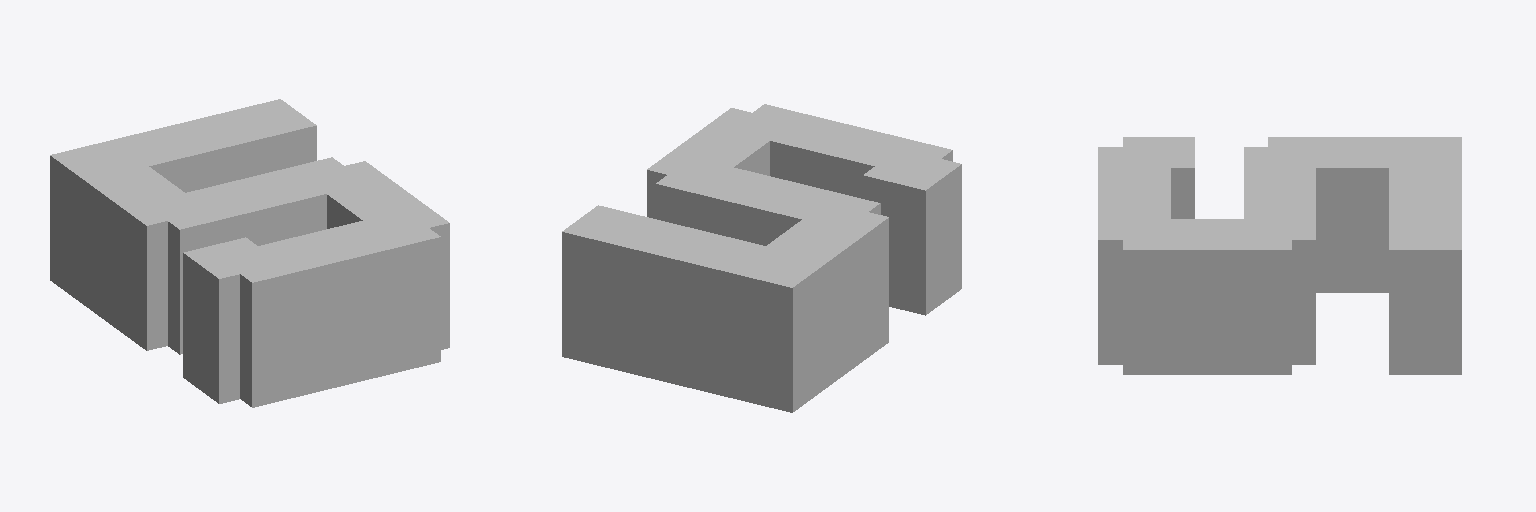
The model's file is num_5.obj.
3 renders of one model, left to right at view 1: azimuth 30°, elevation 25°; view 2: azimuth 150°, elevation 25°; view 3: azimuth 270°, elevation 25°, orthographic.
Visible parts, largest first — view 1: Text; view 2: Text; view 3: Text.
Boxes of the visible parts, box(x1,y1,x2,y2) form: Text: box(50, 99, 449, 407); Text: box(562, 104, 961, 412); Text: box(1098, 137, 1461, 374).
Bounding box in the file's own units: 0.5789 × 0.3 × 0.7895.